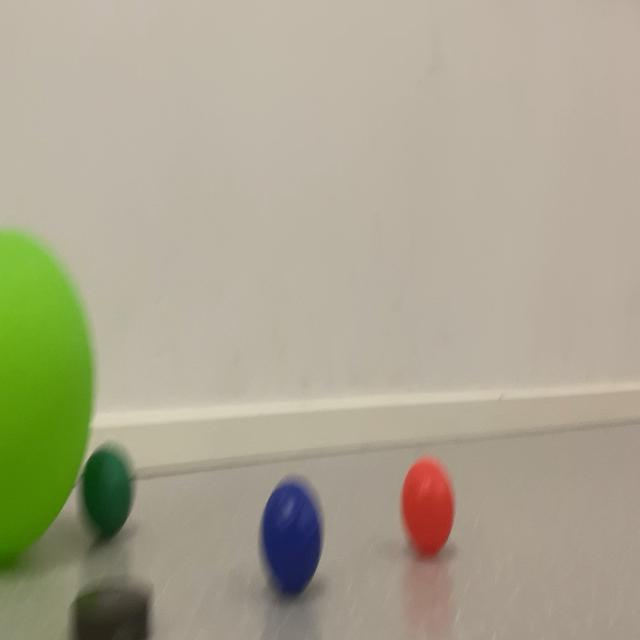7: (369, 421, 497, 619)
blue ball: (87, 412, 532, 556)
green ball: (236, 426, 345, 640)
red ball: (78, 409, 196, 536)
